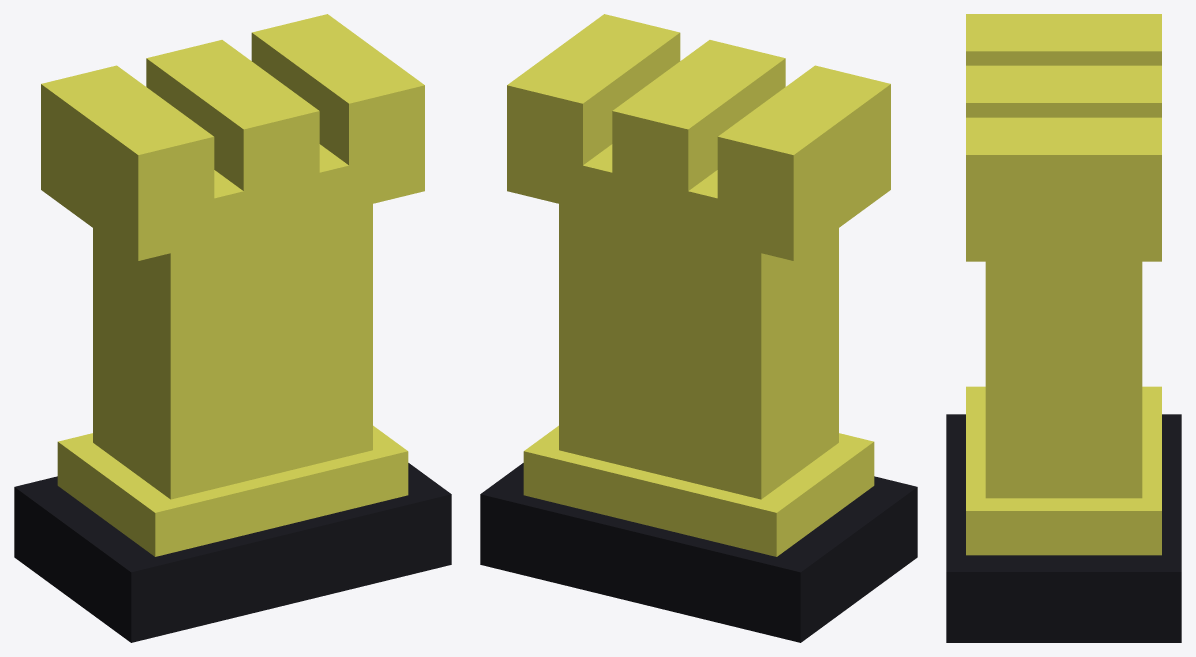
Rendered from rook.glb.
3 views of the same model, side by side, from view 1: azimuth 30°, elevation 25°; view 2: azimuth 150°, elevation 25°; view 3: azimuth 270°, elevation 25° (orthographic).
Parts seen in each view (by area): view 1: world; view 2: world; view 3: world.
Boxes of the visible parts, x1,y1,x2,y2 form: world: (14,14,451,642); world: (480,14,917,642); world: (946,14,1181,642).
Bounding box in the file's own units: 0.19 × 0.27 × 0.12.
